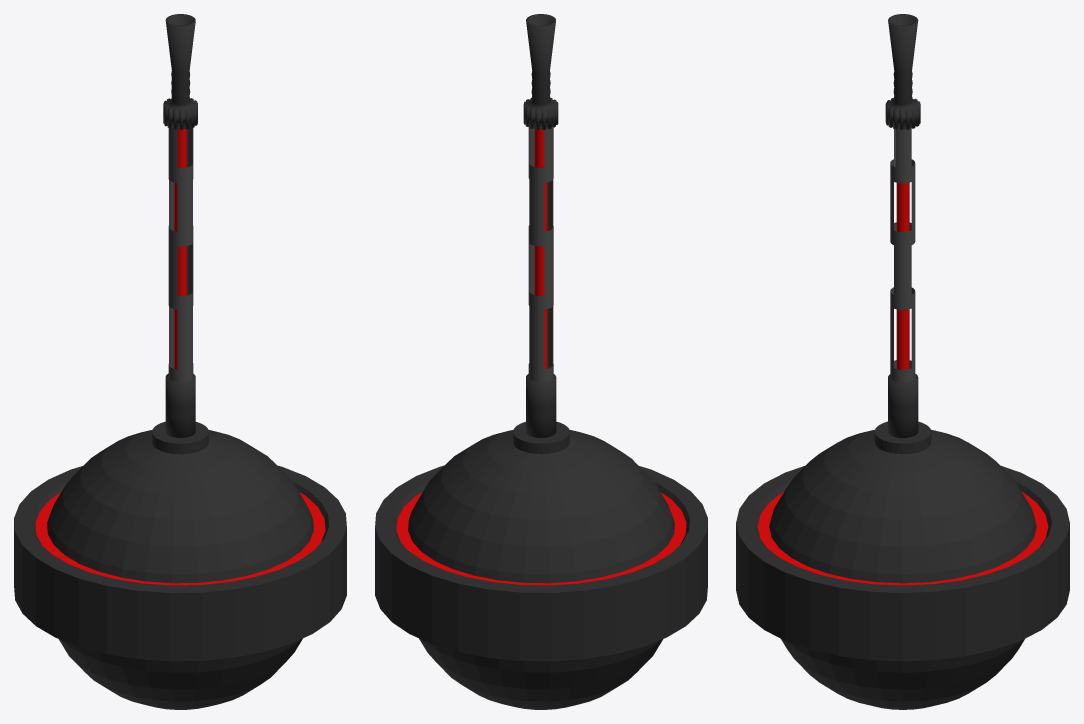
The model's file is Turret.fbx.
3 renders of one model, left to right at view 1: azimuth 30°, elevation 25°; view 2: azimuth 150°, elevation 25°; view 3: azimuth 270°, elevation 25°, orthographic.
Parts seen in each view (by area): view 1: Rotating Mount, Base Mount, Turret_Barrels_Shield, Turret_Barrel, Light, Turret_Barrels_Barrel, Barrel Base; view 2: Rotating Mount, Base Mount, Turret_Barrels_Shield, Turret_Barrel, Light, Turret_Barrels_Barrel, Barrel Base; view 3: Rotating Mount, Base Mount, Turret_Barrel, Turret_Barrels_Shield, Light, Turret_Barrels_Barrel, Barrel Base.
Boxes of the visible parts, <box> form: Rotating Mount: <box>47,429,313,709</box>; Base Mount: <box>14,465,346,661</box>; Turret_Barrels_Shield: <box>168,127,193,382</box>; Turret_Barrel: <box>163,14,197,437</box>; Light: <box>35,492,325,585</box>; Turret_Barrels_Barrel: <box>174,129,186,369</box>; Barrel Base: <box>152,421,208,454</box>; Rotating Mount: <box>408,429,674,709</box>; Base Mount: <box>375,465,707,661</box>; Turret_Barrels_Shield: <box>528,126,553,382</box>; Turret_Barrel: <box>523,14,558,437</box>; Light: <box>396,492,686,585</box>; Turret_Barrels_Barrel: <box>534,128,547,369</box>; Barrel Base: <box>513,421,569,454</box>; Rotating Mount: <box>769,429,1036,709</box>; Base Mount: <box>736,466,1069,661</box>; Turret_Barrel: <box>885,14,920,437</box>; Turret_Barrels_Shield: <box>890,128,915,382</box>; Light: <box>757,492,1048,585</box>; Turret_Barrels_Barrel: <box>896,182,909,369</box>; Barrel Base: <box>874,421,931,453</box>.
Size of the model in its own units: 228 by 509 by 228.
